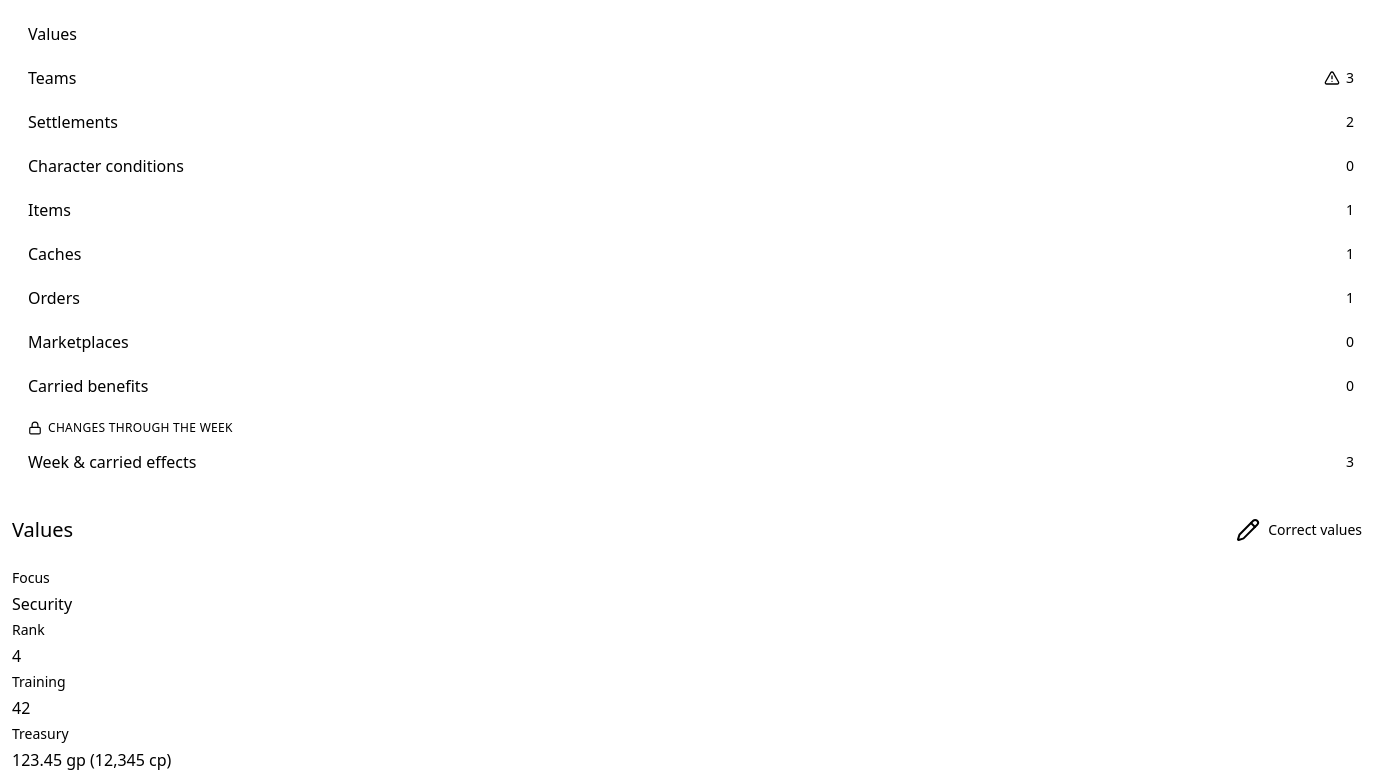
Scenario: Teams correction › manager limit warnings name the manager
This screenshot has width=1390, height=774.
Click the button "Teams 3" at (52, 78), box [12, 56, 1370, 100]
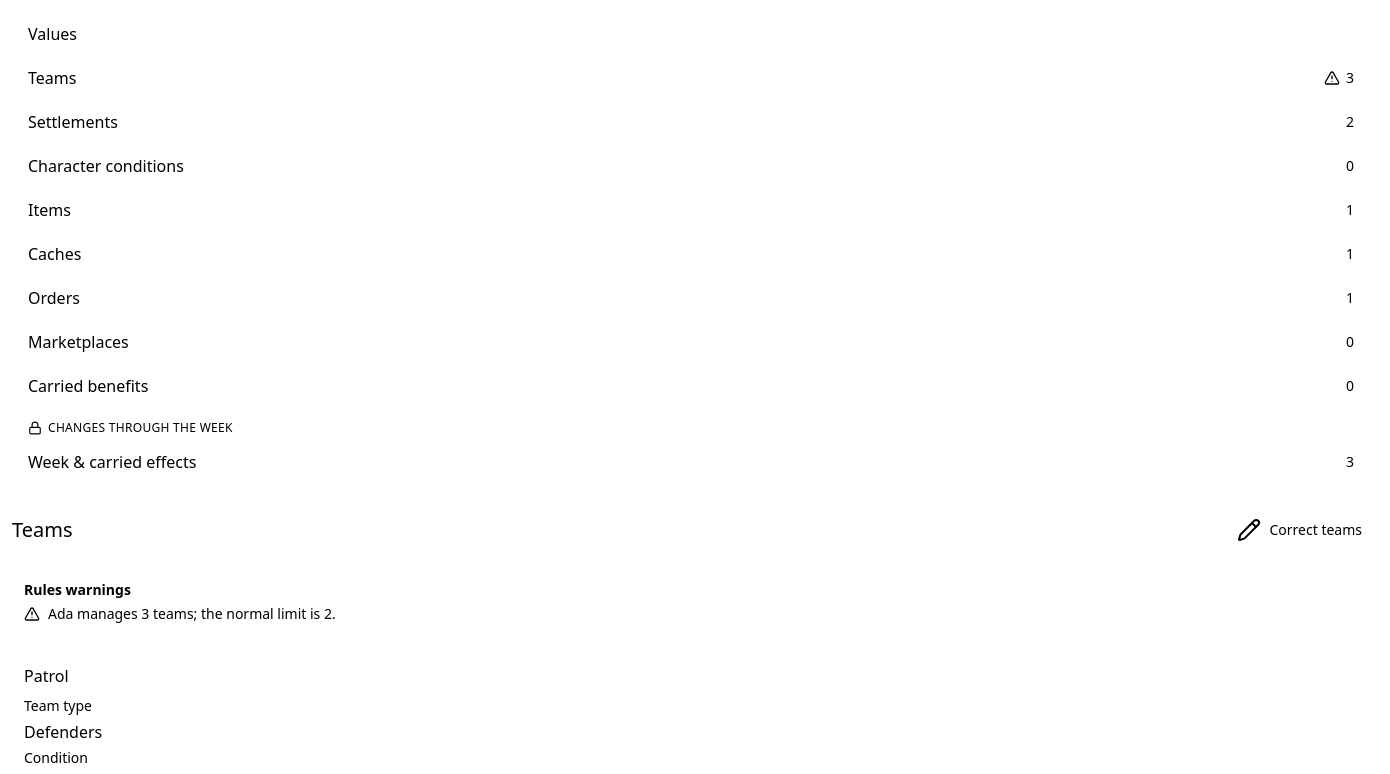
Expected: the element "Rules warnings" shows "Ada manages 3 teams; the normal limit is 2.", [48, 604, 336, 623]
